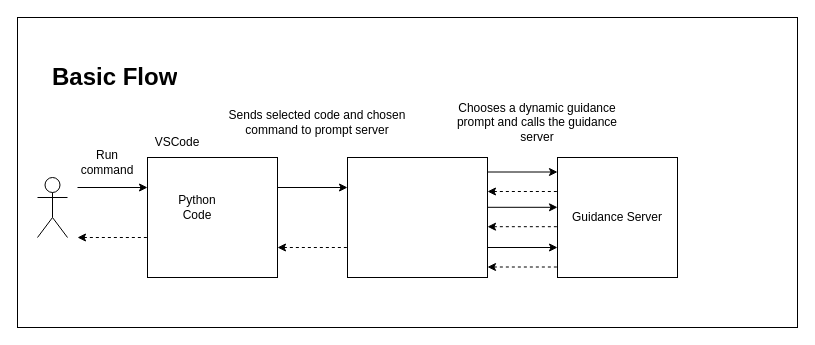
Image size: 815x345. Some labels were removed from this diagram. Each missing label, with the centre of its shape:
"Actor" goes at (52,207).
"Prompt Server" goes at (417,217).
